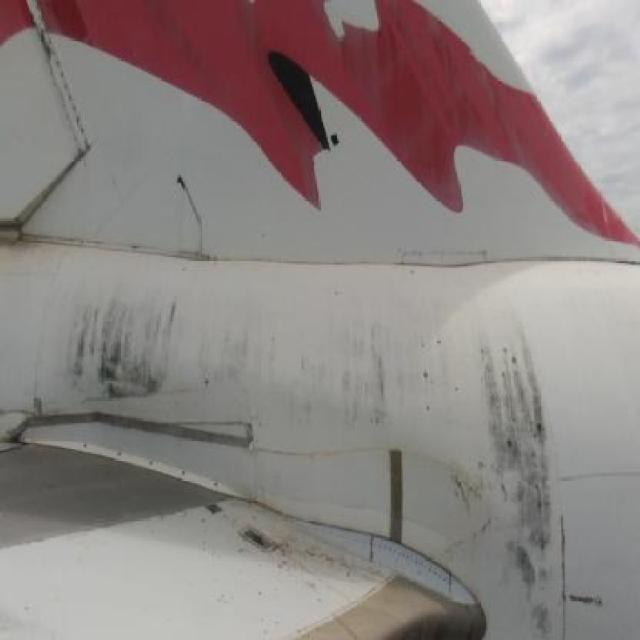Missing-Rivet: (78, 439, 230, 493), (373, 530, 458, 598), (397, 244, 497, 273)
Rust: (197, 308, 478, 448), (477, 311, 568, 640), (47, 270, 196, 416), (30, 10, 78, 110)
Scartch: (552, 506, 620, 639), (438, 446, 512, 563), (599, 190, 623, 248)
